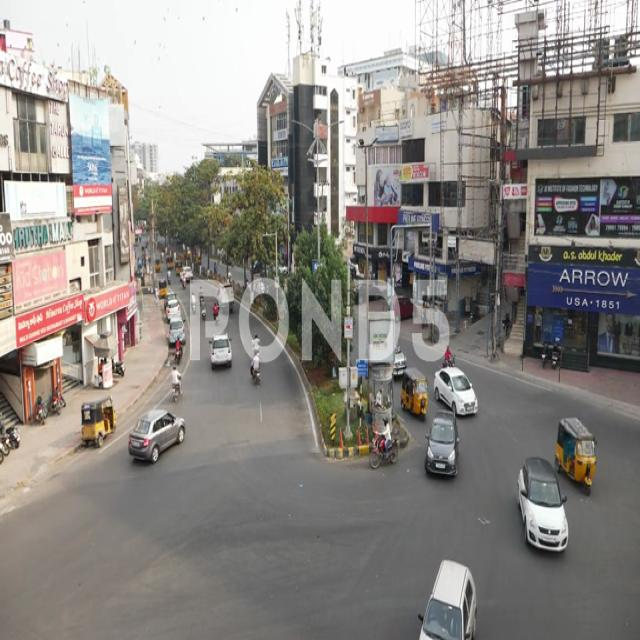car: (513, 439, 582, 563), (414, 559, 479, 640), (128, 409, 188, 469), (432, 365, 485, 422), (421, 411, 460, 485), (207, 335, 234, 374)
motorbike: (369, 418, 398, 472), (169, 369, 186, 403), (248, 355, 262, 386)
rikshaw: (554, 407, 601, 505), (80, 400, 119, 448), (404, 370, 428, 420)
